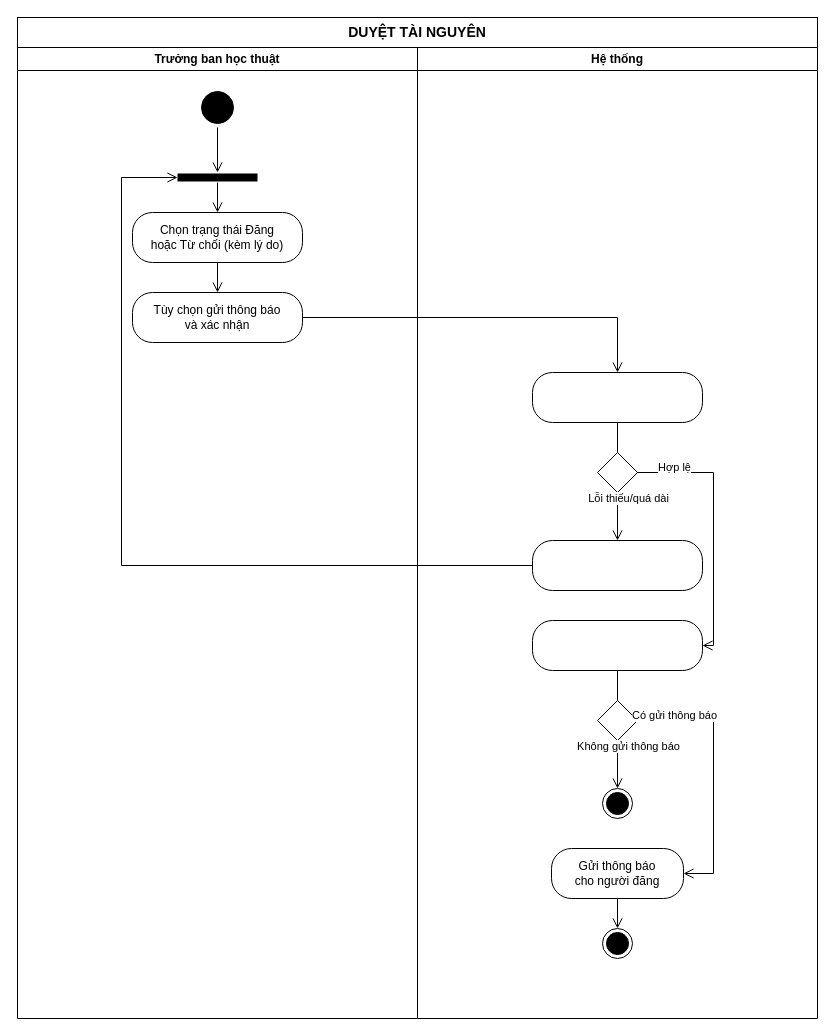
The diagram is 835 pixels wide and 1036 high, and some of its shapes have lost their labels. Here are the shapes that lost their labels. From the top down, the centre of each, then its label:
(x=617, y=397): Kiểm tra tính hợp lệ (lý do từ chối)
(x=617, y=565): Thông báo lỗi và yêu cầu nhập lại
(x=617, y=645): Cập nhật trạng thái và lưu thông tin duyệt
